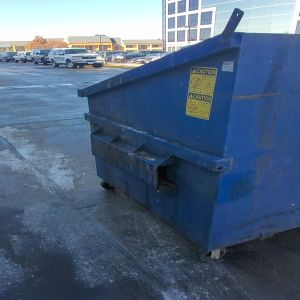Dumpster: (86, 32, 300, 264)
